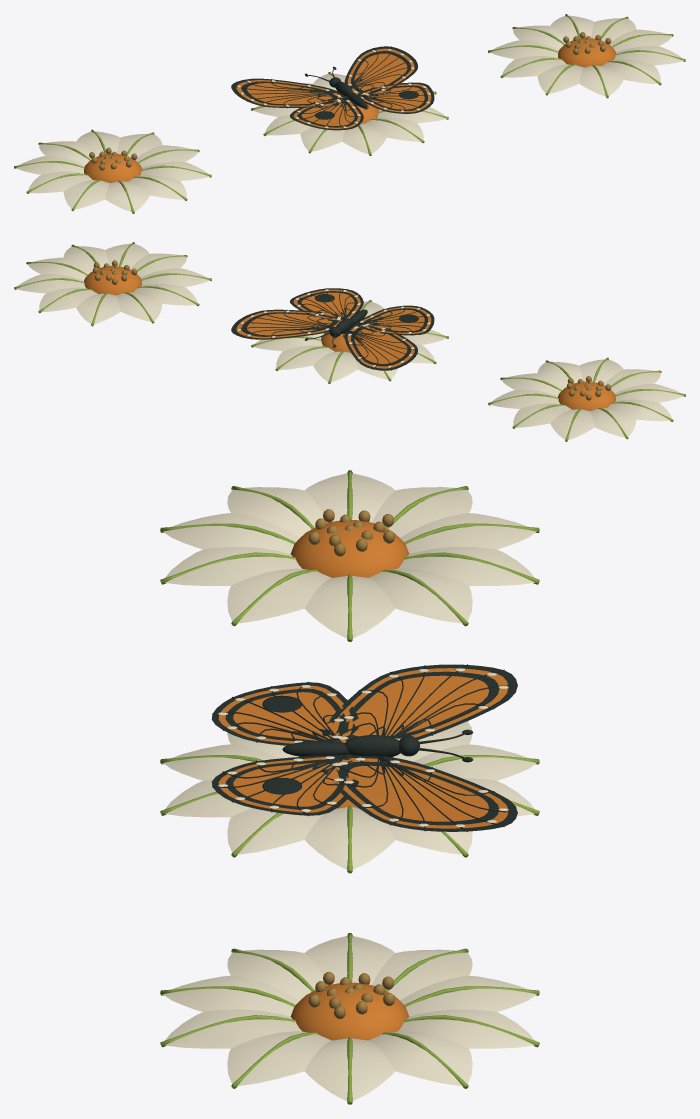
3 views of the same model, one above another, from view 1: azimuth 30°, elevation 25°; view 2: azimuth 150°, elevation 25°; view 3: azimuth 270°, elevation 25° (orthographic). The views are drawn at different scales.
Parts seen in each view (by area): view 1: B12_SPEC_Pale scales_export, B12_SPEC_Ochre scales_export, B12_SPEC_Chitin_export, B12_SPEC_Leaf new growth_export, B12_SPEC_Iridescent bronze_export; view 2: B12_SPEC_Pale scales_export, B12_SPEC_Ochre scales_export, B12_SPEC_Chitin_export, B12_SPEC_Leaf new growth_export, B12_SPEC_Iridescent bronze_export; view 3: B12_SPEC_Pale scales_export, B12_SPEC_Ochre scales_export, B12_SPEC_Chitin_export, B12_SPEC_Leaf new growth_export, B12_SPEC_Iridescent bronze_export.
Boxes of the visible parts, bbox=[...] form: B12_SPEC_Pale scales_export: bbox=[16, 15, 683, 212]; B12_SPEC_Ochre scales_export: bbox=[84, 38, 615, 182]; B12_SPEC_Chitin_export: bbox=[231, 46, 434, 130]; B12_SPEC_Leaf new growth_export: bbox=[14, 14, 685, 213]; B12_SPEC_Iridescent bronze_export: bbox=[89, 32, 611, 170]; B12_SPEC_Pale scales_export: bbox=[16, 243, 683, 440]; B12_SPEC_Ochre scales_export: bbox=[84, 266, 615, 410]; B12_SPEC_Chitin_export: bbox=[231, 288, 434, 370]; B12_SPEC_Leaf new growth_export: bbox=[14, 242, 685, 441]; B12_SPEC_Iridescent bronze_export: bbox=[92, 260, 611, 400]; B12_SPEC_Pale scales_export: bbox=[163, 473, 536, 1100]; B12_SPEC_Ochre scales_export: bbox=[218, 520, 508, 1040]; B12_SPEC_Chitin_export: bbox=[211, 664, 517, 831]; B12_SPEC_Leaf new growth_export: bbox=[160, 470, 539, 1104]; B12_SPEC_Iridescent bronze_export: bbox=[308, 509, 394, 1019].
Size of the model in its own units: 2.18 by 0.1485 by 0.5543.
